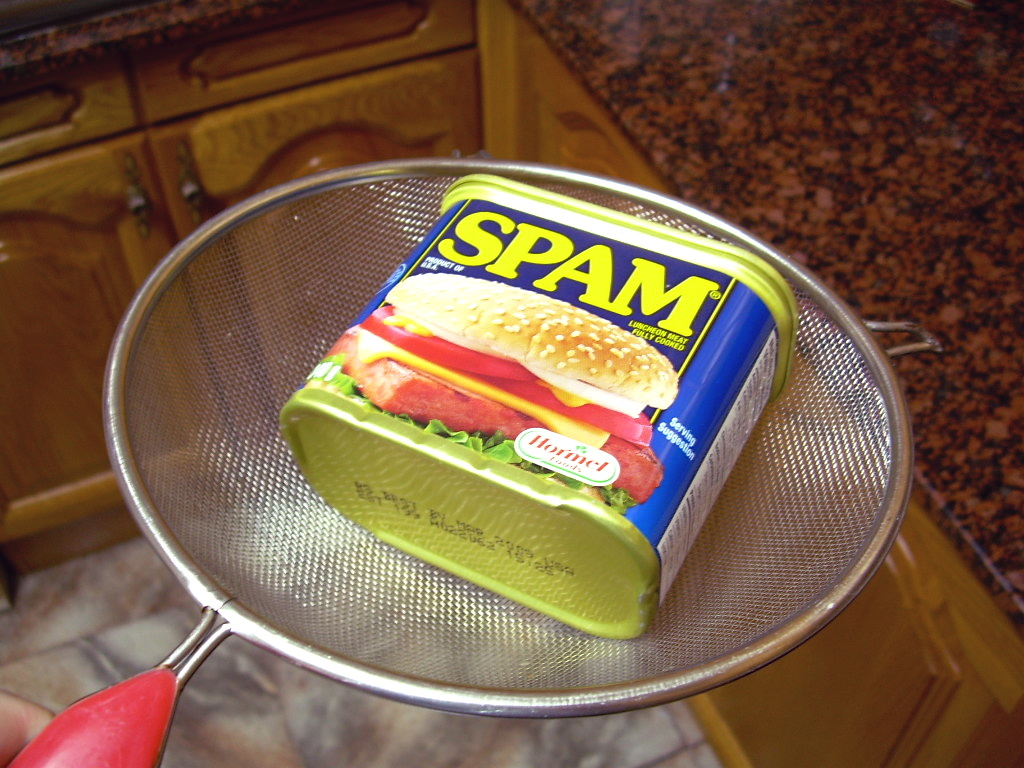Hamburger: (318, 274, 677, 513)
